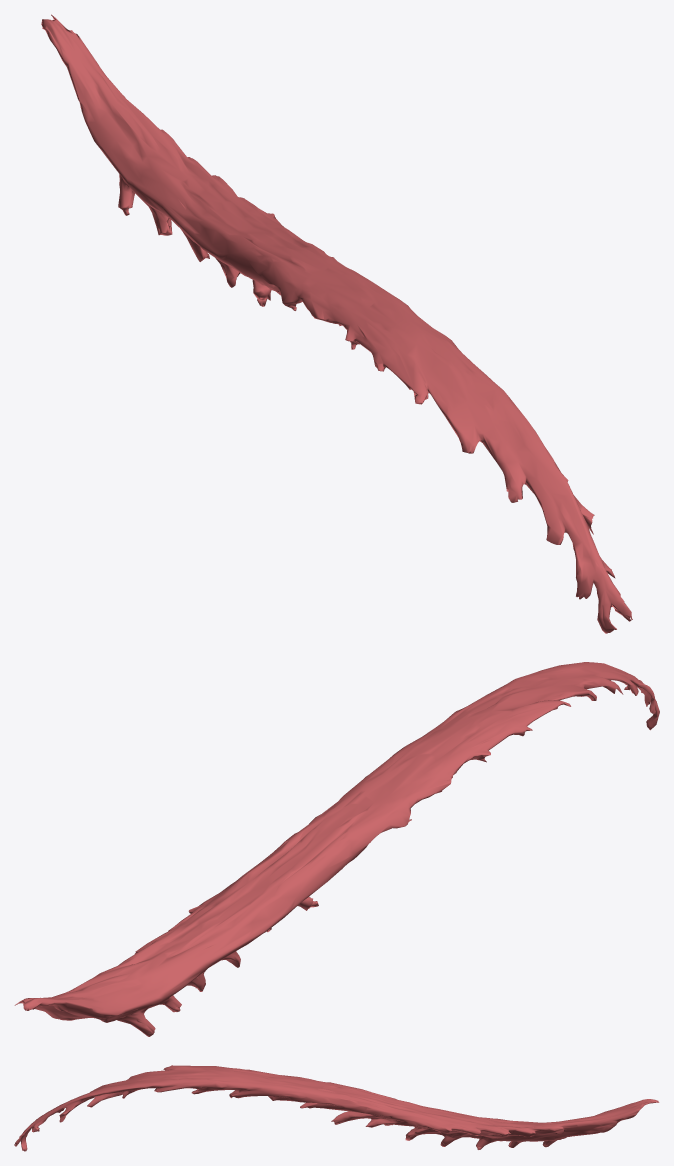
3 views of the same model, one above another, from view 1: azimuth 30°, elevation 25°; view 2: azimuth 150°, elevation 25°; view 3: azimuth 270°, elevation 25° (orthographic). The views are drawn at different scales.
Visible parts, largest first — view 1: 右侧胸最长肌; view 2: 右侧胸最长肌; view 3: 右侧胸最长肌.
Part boxes in pixels (x1,y1,x2,y2): 右侧胸最长肌: [41, 14, 632, 633]; 右侧胸最长肌: [14, 662, 659, 1036]; 右侧胸最长肌: [14, 1065, 659, 1151].
Size of the model in its own units: 0.1062 by 0.1087 by 0.8078.
